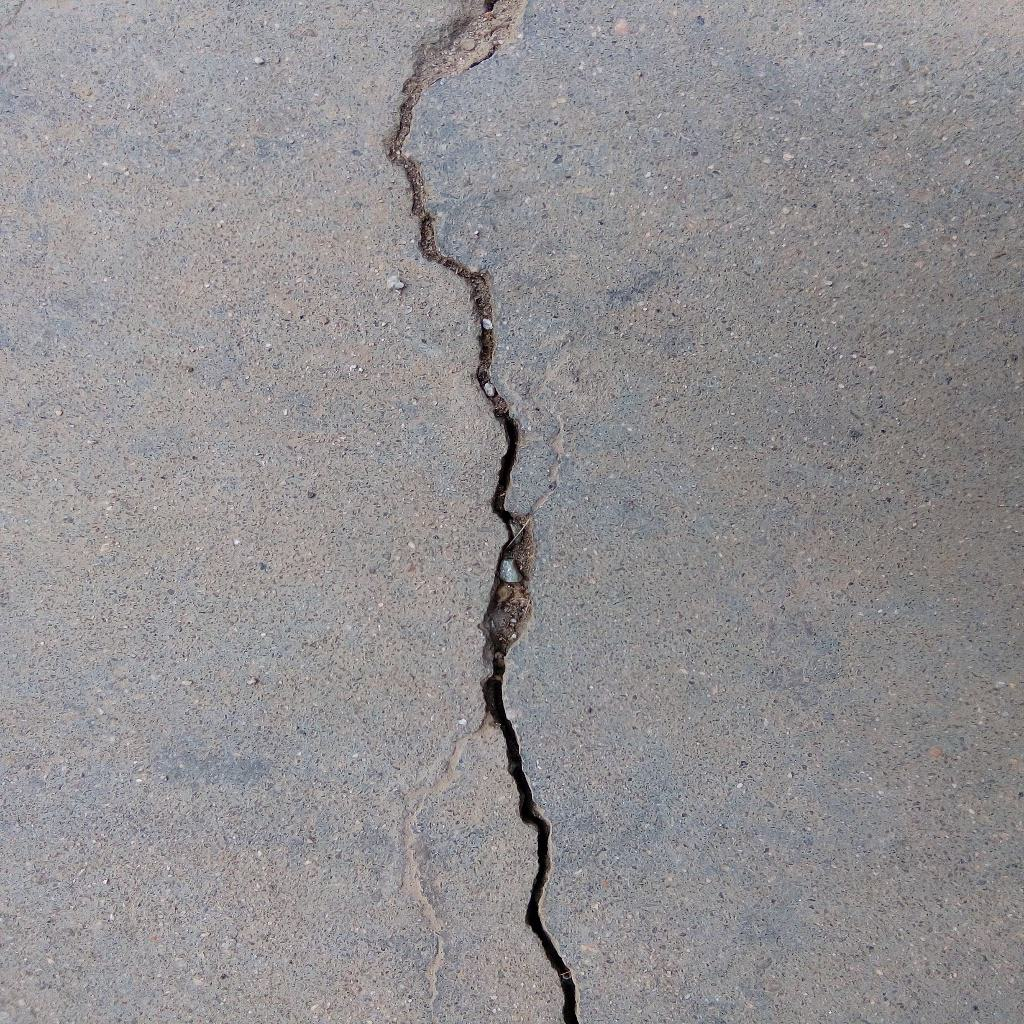Crack: (382, 1, 579, 1024)
